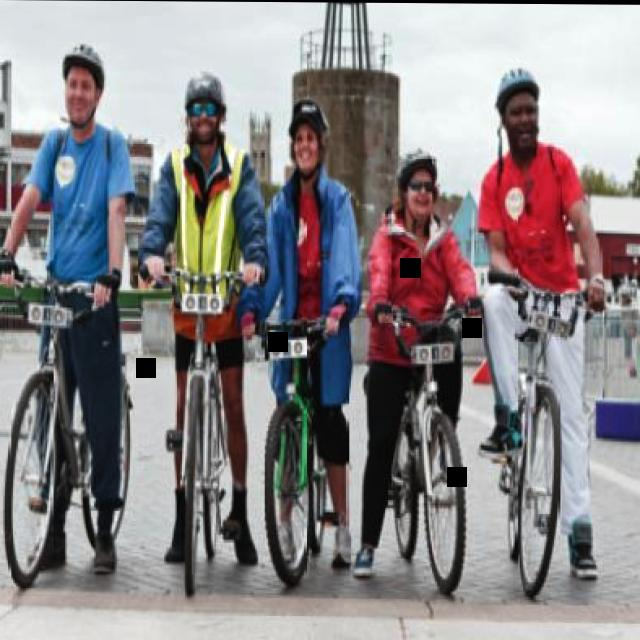NO-Mask: (500, 97, 542, 149), (63, 70, 101, 126), (188, 100, 222, 147), (404, 174, 436, 219), (292, 127, 324, 171)
